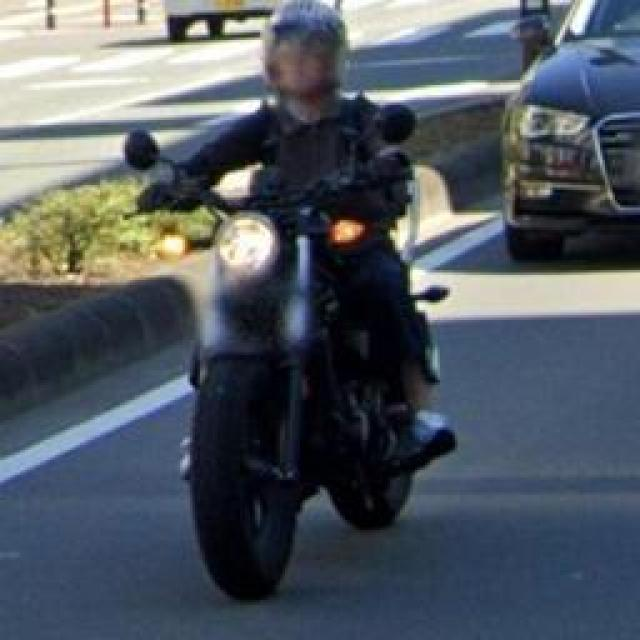car: (500, 0, 640, 262)
motorbike: (124, 0, 457, 603)
